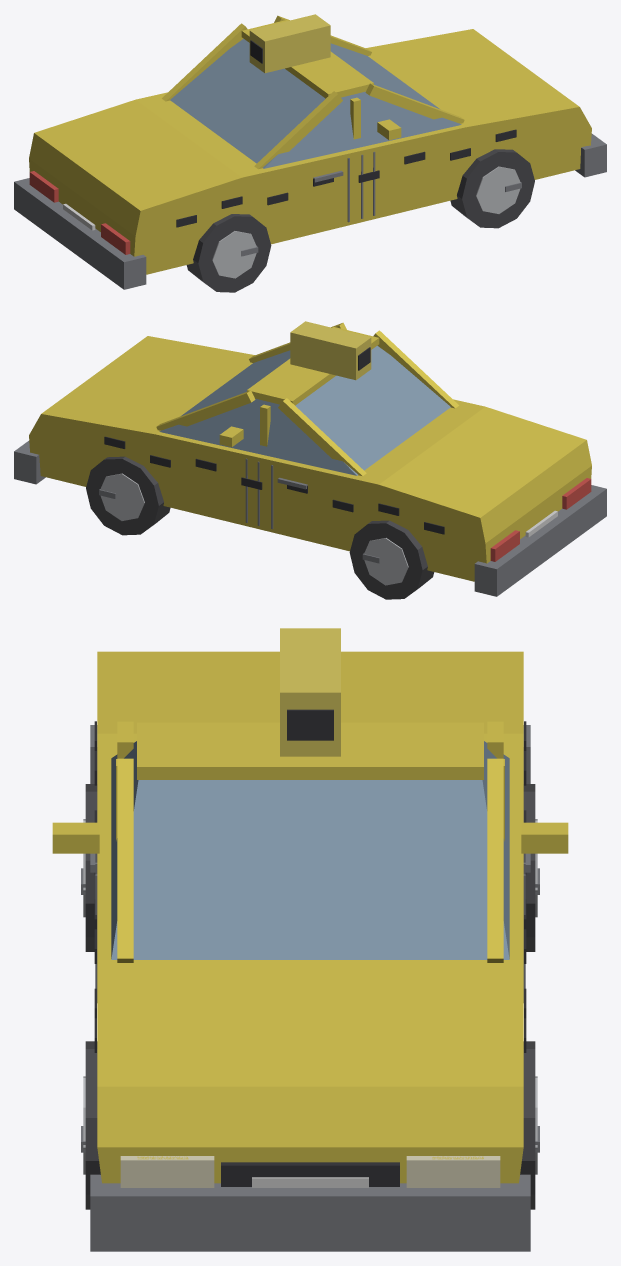
File: Araba_Taksi.glb
The picture shows the model from 3 angles, top to bottom: view 1: azimuth 30°, elevation 25°; view 2: azimuth 150°, elevation 25°; view 3: azimuth 270°, elevation 25°; orthographic projection. The views are drawn at different scales.
Visible parts, largest first — view 1: Araba_Taksi, Wheel_0.007, Wheel_2.007; view 2: Araba_Taksi, Wheel_3.007, Wheel_1.007; view 3: Araba_Taksi, Wheel_0.007, Wheel_1.007, Wheel_2.007, Wheel_3.007.
Part boxes in pixels (x1=…): Araba_Taksi: x1=14, y1=14, x2=606, y2=289; Wheel_0.007: x1=450, y1=149, x2=534, y2=228; Wheel_2.007: x1=186, y1=214, x2=271, y2=292; Araba_Taksi: x1=14, y1=321, x2=606, y2=596; Wheel_3.007: x1=349, y1=520, x2=434, y2=599; Wheel_1.007: x1=86, y1=456, x2=170, y2=535; Araba_Taksi: x1=52, y1=628, x2=568, y2=1251; Wheel_0.007: x1=81, y1=1041, x2=100, y2=1209; Wheel_1.007: x1=520, y1=1041, x2=539, y2=1209; Wheel_2.007: x1=81, y1=784, x2=97, y2=951; Wheel_3.007: x1=523, y1=784, x2=539, y2=951.
Bounding box in the file's own units: 4.76 × 1.85 × 2.2.
